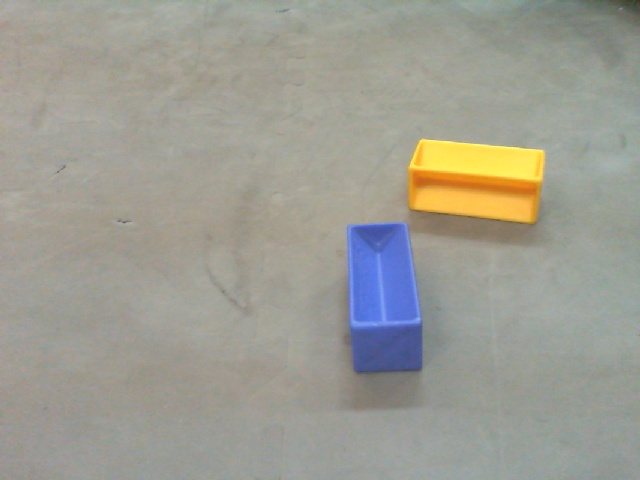BlueSample: (344, 220, 428, 374)
YellowSample: (407, 136, 545, 225)
